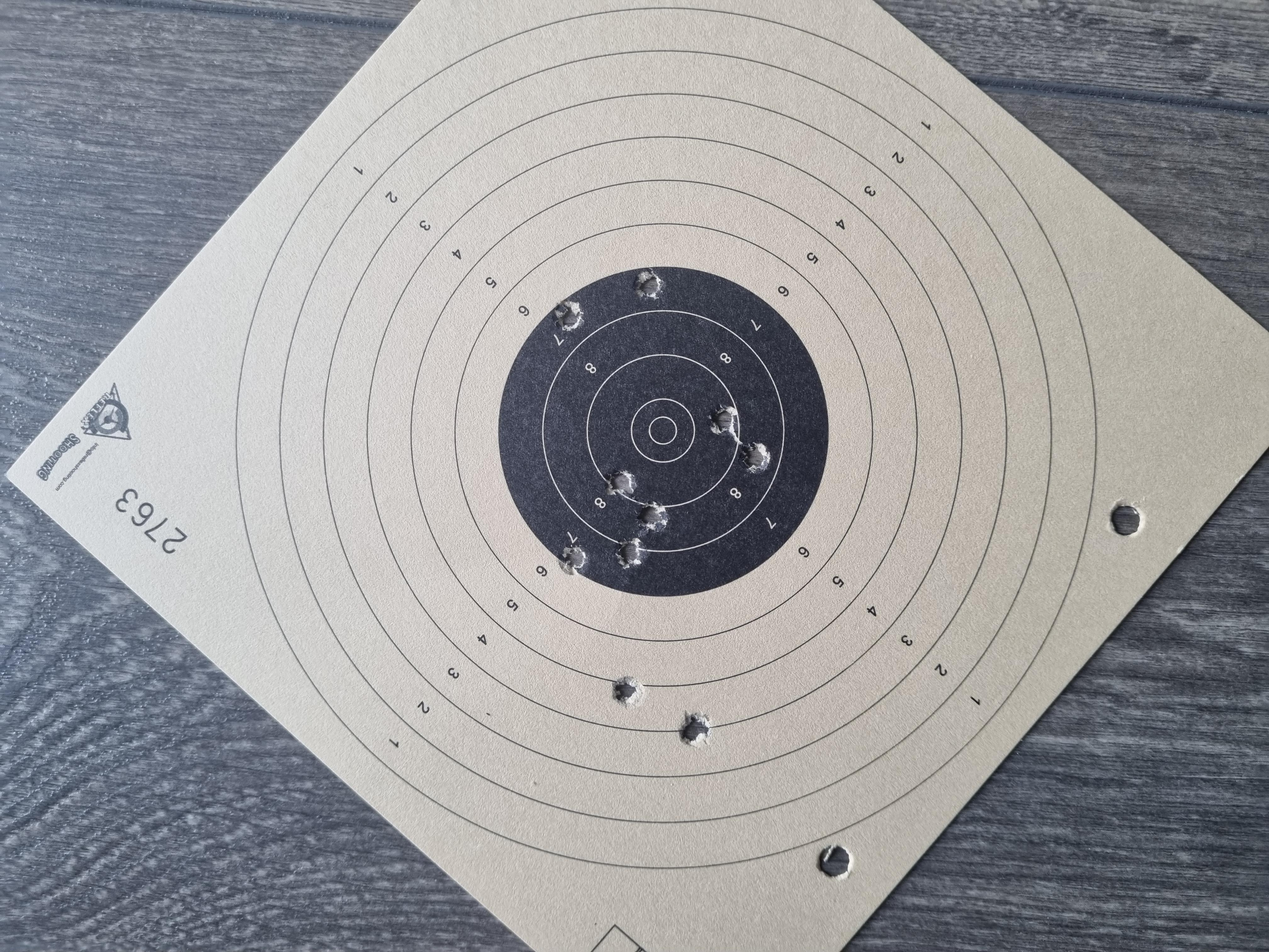hole: (677, 532, 729, 558), (274, 510, 320, 533), (638, 554, 679, 578), (561, 476, 600, 501), (510, 460, 553, 482), (826, 416, 868, 437), (502, 419, 540, 441), (328, 459, 367, 480), (869, 476, 908, 496), (607, 455, 641, 477)
